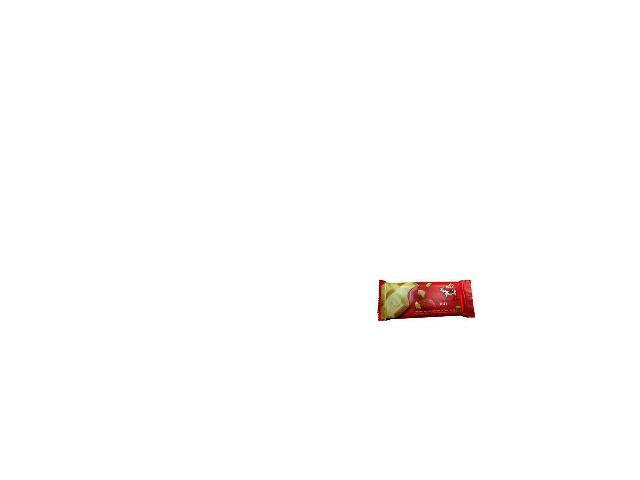chocolate: (377, 277, 481, 327)
